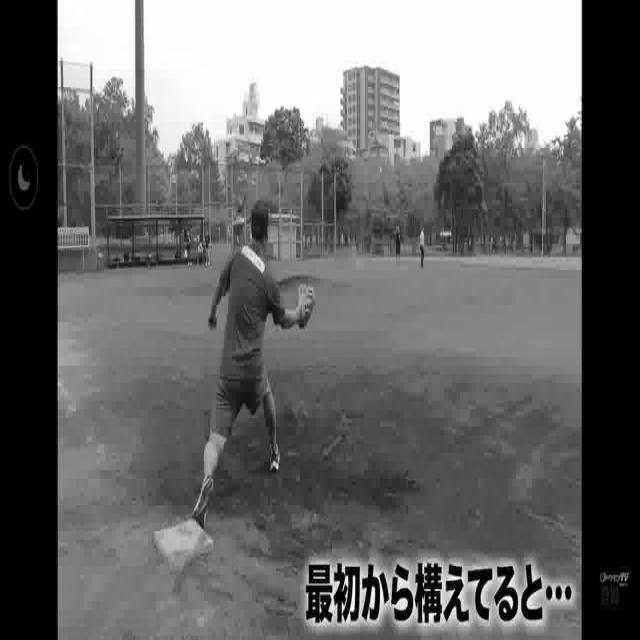base: (150, 518, 220, 560)
baseball_glove: (295, 278, 319, 334)
shoe: (194, 479, 216, 522), (268, 443, 283, 473)
